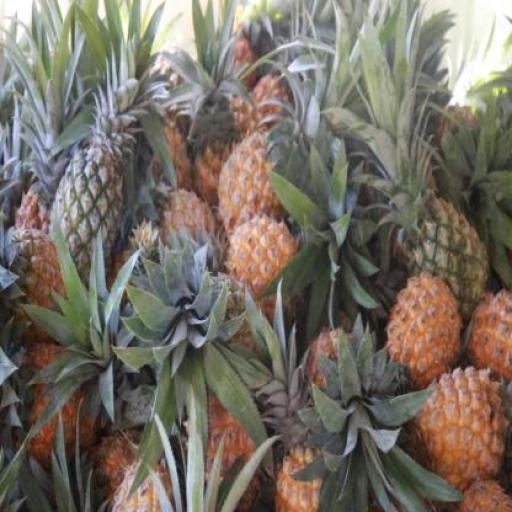Pineapple - v8 v1: (420, 369, 502, 494), (388, 276, 465, 391), (219, 143, 291, 245), (228, 220, 301, 308)
